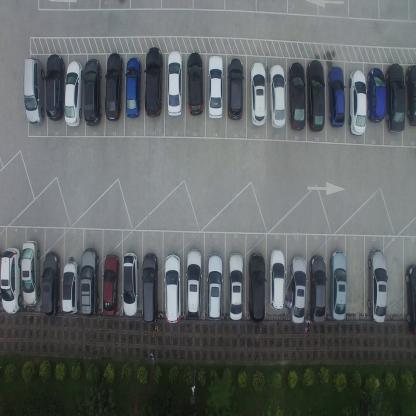car: (367, 248, 388, 324), (0, 245, 21, 315), (305, 59, 325, 132), (144, 46, 163, 118), (20, 238, 40, 306), (23, 58, 43, 126), (80, 247, 99, 318), (105, 52, 124, 122), (44, 54, 64, 120), (386, 62, 404, 134), (41, 250, 60, 318), (83, 58, 102, 126), (63, 60, 82, 128), (308, 254, 326, 325), (288, 254, 306, 324), (247, 252, 265, 322), (141, 252, 158, 326), (348, 68, 366, 137), (329, 251, 347, 320), (288, 61, 306, 130), (164, 253, 181, 324), (207, 252, 224, 322), (249, 61, 267, 126), (186, 247, 202, 319), (268, 64, 286, 128), (187, 51, 204, 118), (366, 67, 386, 123), (228, 252, 244, 322), (166, 48, 182, 118), (327, 67, 345, 127), (102, 254, 119, 317), (124, 57, 141, 119), (122, 252, 138, 317), (207, 55, 223, 119), (269, 248, 285, 311), (61, 260, 79, 316), (227, 58, 243, 121), (405, 264, 416, 337), (404, 65, 416, 128)
